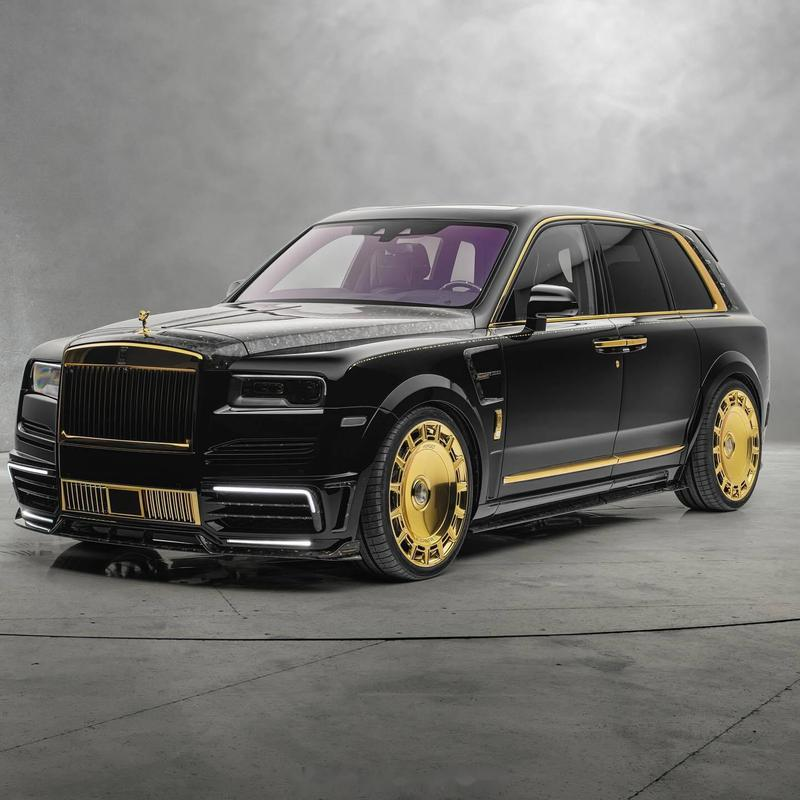汽车: (2, 198, 796, 585)
